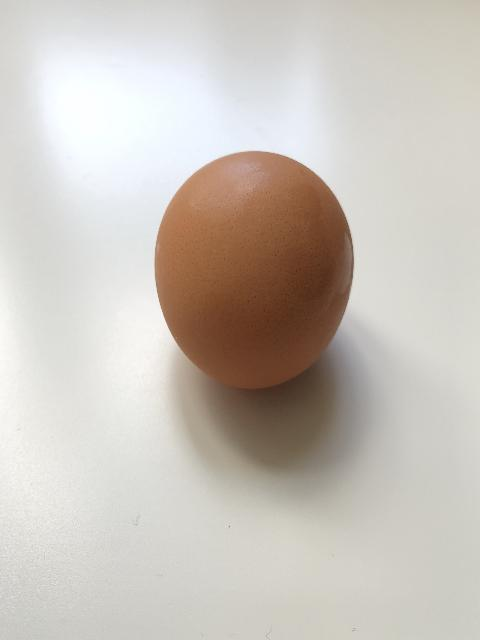Sano: (153, 149, 355, 390)
